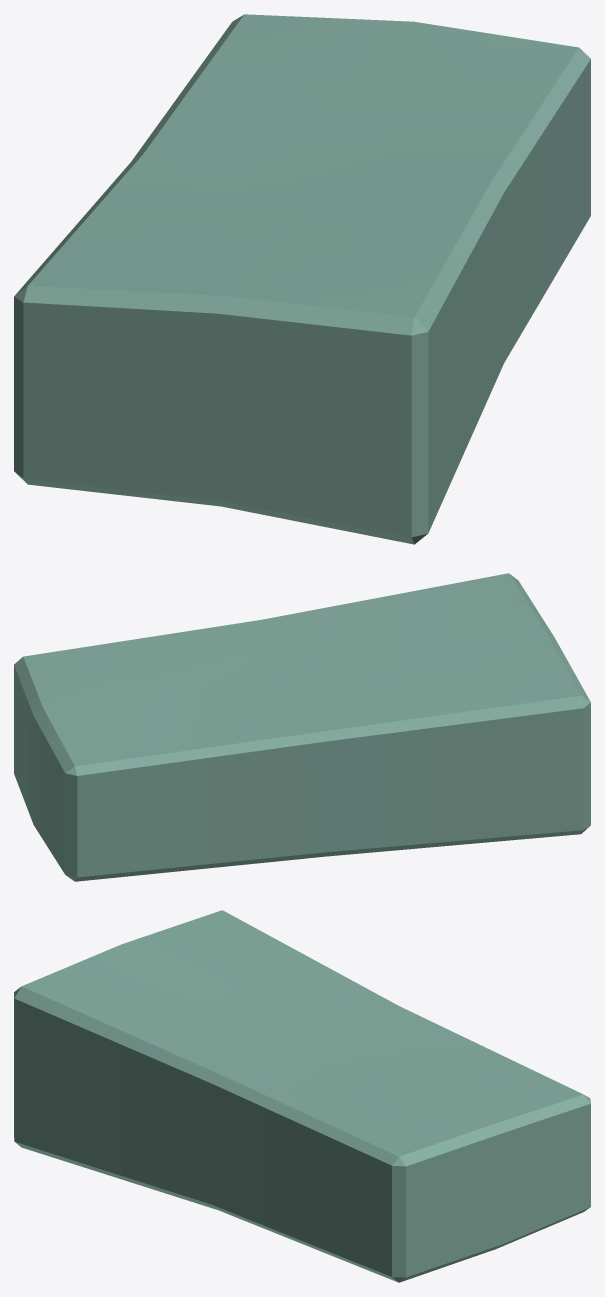
Rendered from Green2.fbx.
The picture shows the model from 3 angles, top to bottom: view 1: azimuth 30°, elevation 25°; view 2: azimuth 150°, elevation 25°; view 3: azimuth 270°, elevation 25°; orthographic projection. The views are drawn at different scales.
Parts seen in each view (by area): view 1: rectangle; view 2: rectangle; view 3: rectangle.
Part boxes in pixels (<box>): rectangle: <box>14,14,590,544</box>; rectangle: <box>14,573,590,881</box>; rectangle: <box>14,910,590,1282</box>.
Bounding box in the file's own units: 2.59 × 0.8109 × 2.63.
